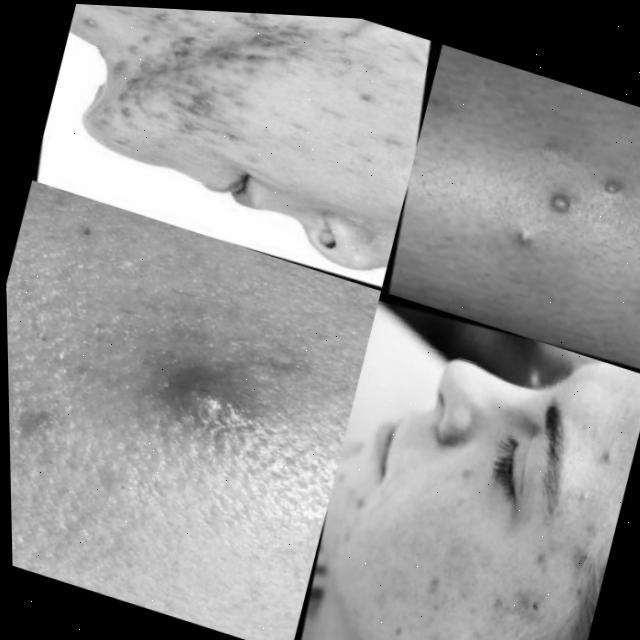Acne: (5, 226, 334, 575), (86, 4, 428, 217), (403, 401, 627, 640), (499, 141, 640, 342)
